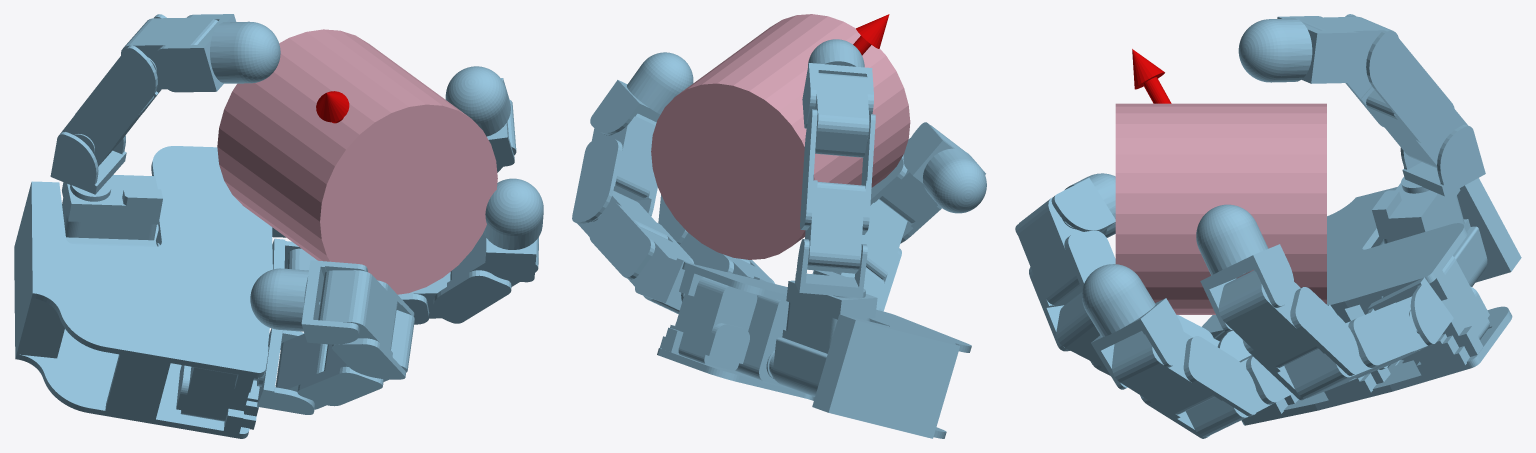
3 renders of one model, left to right at view 1: azimuth 30°, elevation 25°; view 2: azimuth 150°, elevation 25°; view 3: azimuth 270°, elevation 25°, orthographic. The views are drawn at different scales.
Visible parts, largest first — view 1: world, cylinder_medium.stl; view 2: world, cylinder_medium.stl; view 3: world, cylinder_medium.stl.
Part boxes in pixels (x1=…): world: x1=14, y1=14, x2=543, y2=438; cylinder_medium.stl: x1=217, y1=29, x2=497, y2=294; world: x1=572, y1=14, x2=986, y2=438; cylinder_medium.stl: x1=651, y1=14, x2=910, y2=259; world: x1=1015, y1=14, x2=1521, y2=438; cylinder_medium.stl: x1=1115, y1=103, x2=1326, y2=314.
Bounding box in the file's own units: 0.1972 × 0.1719 × 0.1916.
